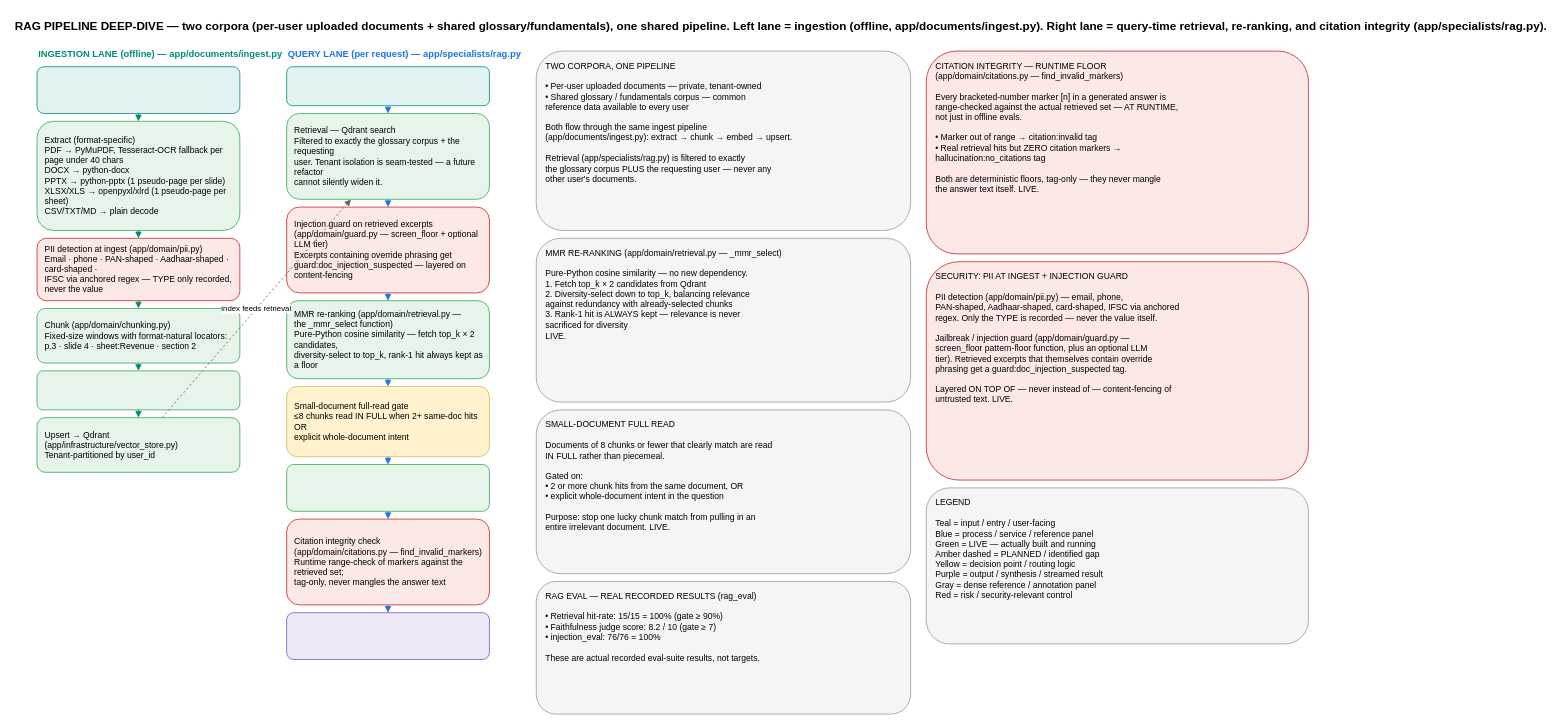
Some shapes in this 1560 by 728 pixel diagram are drawn without their labels. Each missing label, with the box of its shape:
Answer with citations Bracketed-number markers map to the retrieved set: (286, 612, 489, 659)
Embed Ollama nomic-embed-text, batched: (36, 370, 240, 410)
Grounded synthesis (LLM) Cites retrieved excerpts, streamed: (286, 464, 489, 511)
Question User asks a question in chat: (286, 66, 489, 106)
Upload Per-user documents (private) OR shared glossary / fundamentals corpus: (36, 66, 240, 113)
